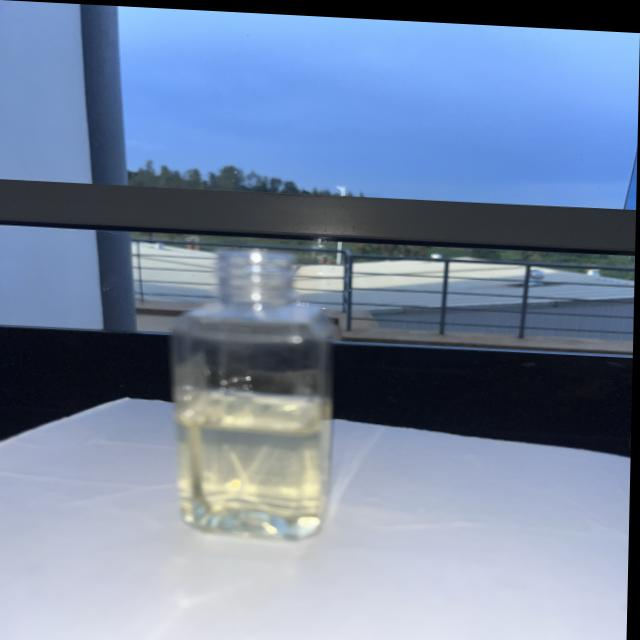oil: (181, 381, 336, 540)
